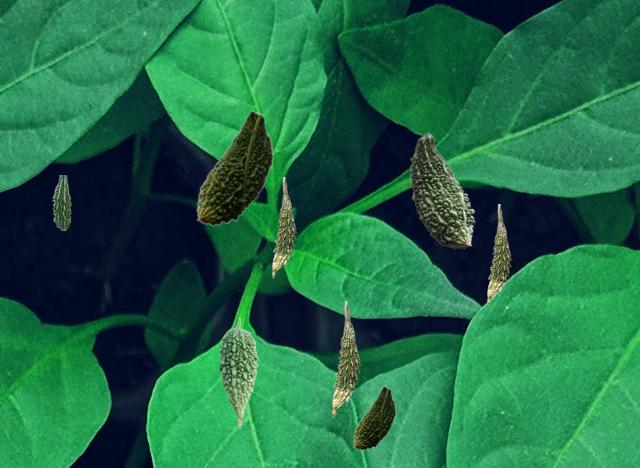ampalaya: (196, 110, 273, 225), (410, 132, 474, 247), (218, 317, 257, 427), (332, 301, 359, 416), (353, 386, 395, 449), (487, 204, 510, 304), (272, 177, 295, 277), (52, 175, 70, 229)
